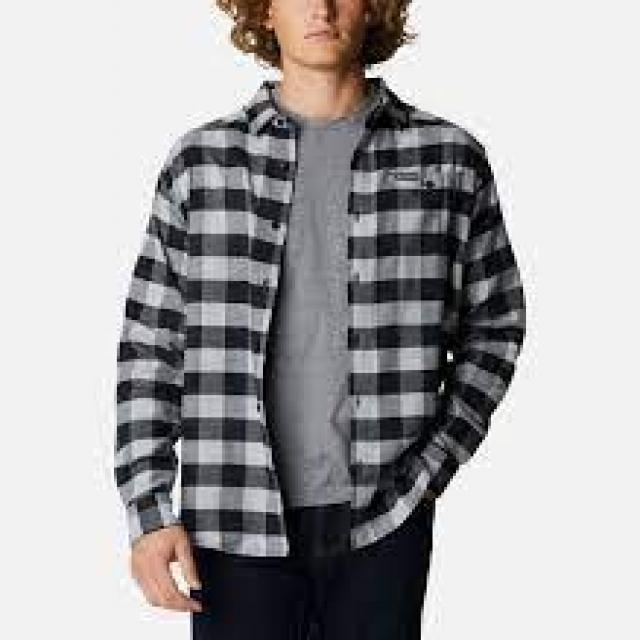plaid: (98, 90, 550, 543)
